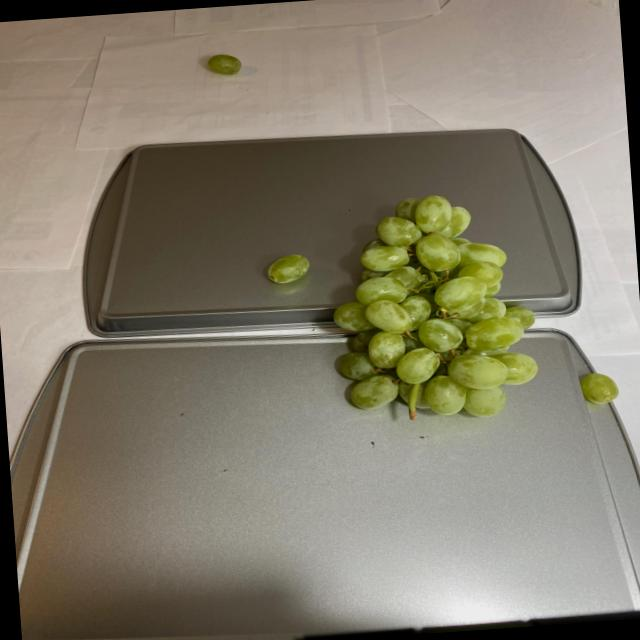grapes: (312, 188, 544, 434), (259, 254, 315, 288), (570, 370, 624, 404), (205, 51, 246, 75)
